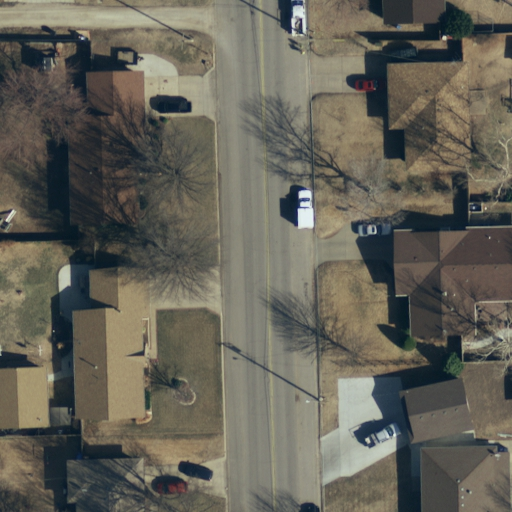DT: (300, 25, 321, 58), (175, 30, 200, 55)
